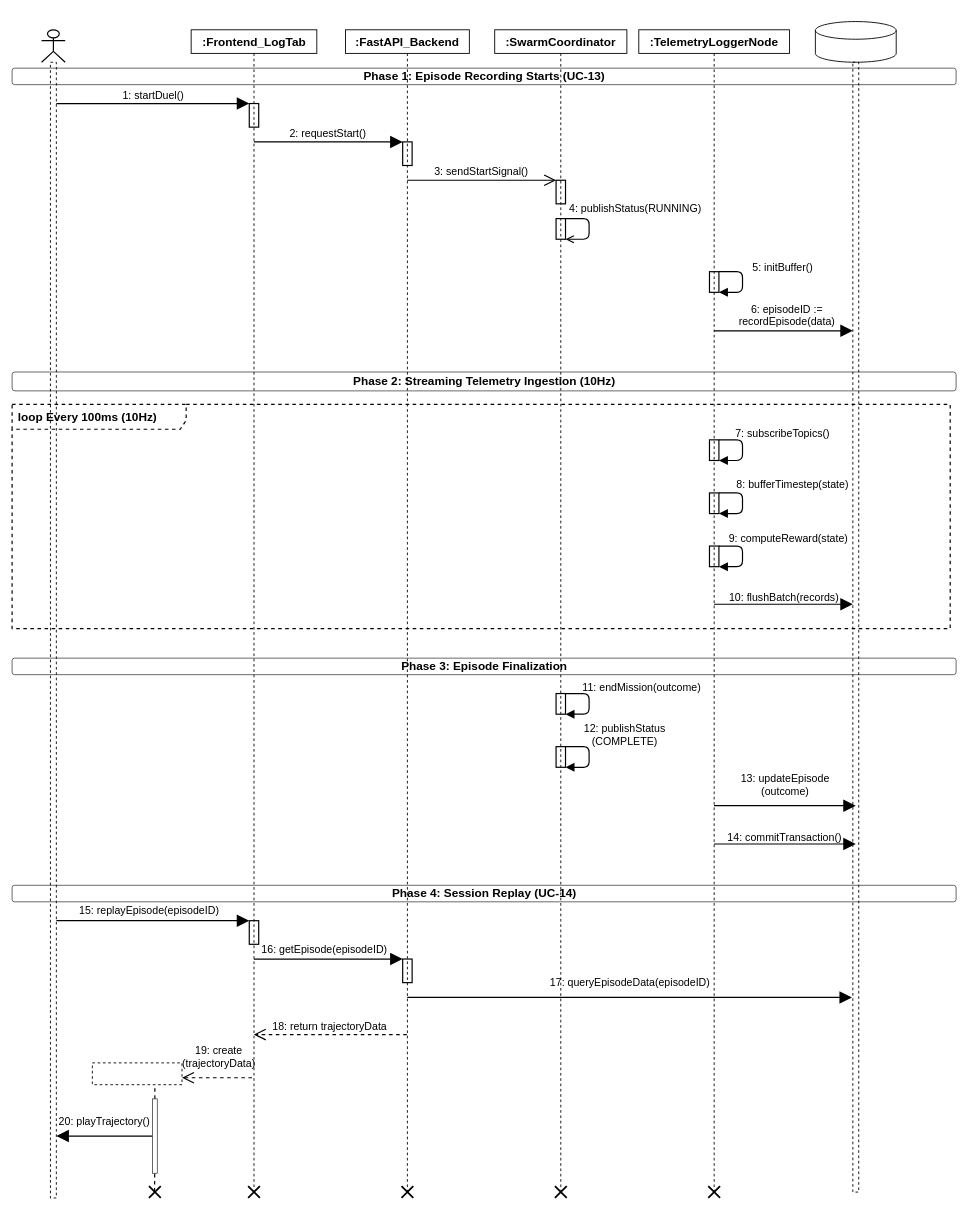
Some shapes in this 966 by 1210 pixel diagram are drawn without their labels. The shapes that lost their labels are listed below. From the top down, each one's centre as x and y in pixels, then its label:
[53,46]: :GCS_Operator
[855,41]: :SQLite_DB
[137,1073]: :ReplayController
